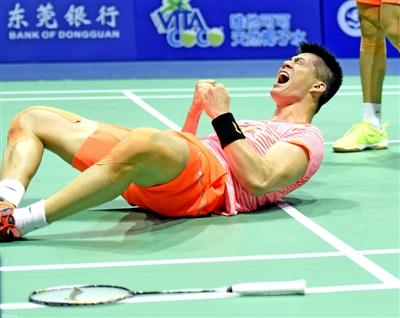fall: (1, 25, 342, 229)
